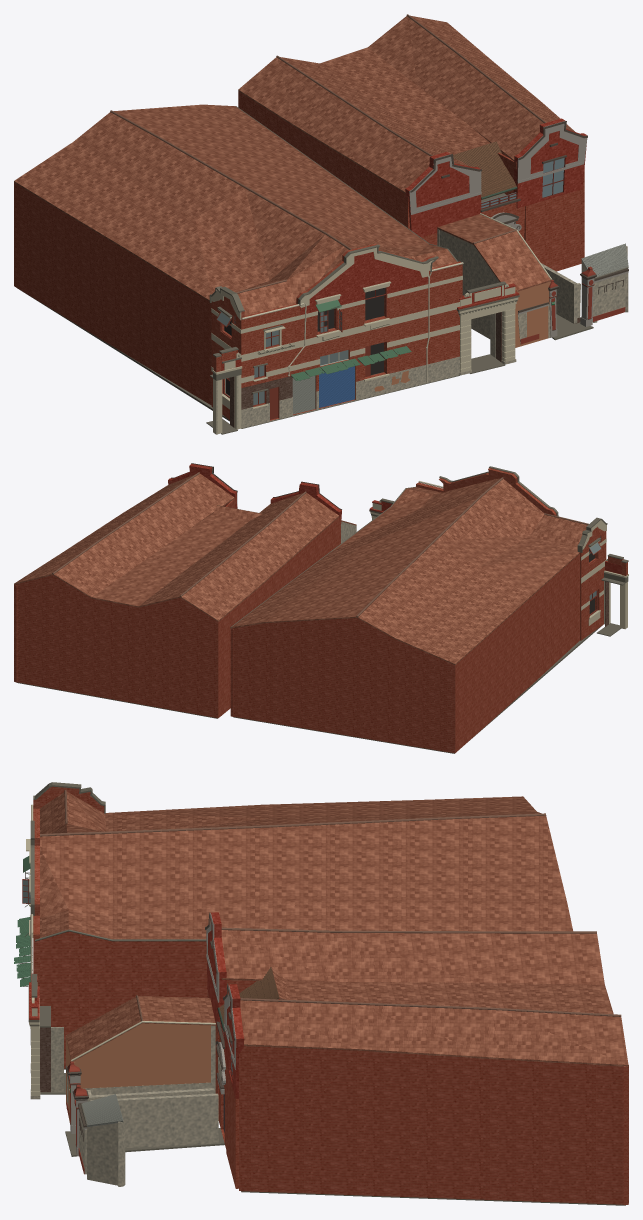
The model's file is full-source.glb.
The picture shows the model from 3 angles, top to bottom: view 1: azimuth 30°, elevation 25°; view 2: azimuth 150°, elevation 25°; view 3: azimuth 270°, elevation 25°; orthographic projection. The views are drawn at different scales.
Parts seen in each view (by area): view 1: 颐庆里住宅，景星路街面; view 2: 颐庆里住宅，景星路街面; view 3: 颐庆里住宅，景星路街面.
Boxes of the visible parts, x1,y1,x2,y2 form: 颐庆里住宅，景星路街面: (14,14,628,434); 颐庆里住宅，景星路街面: (14,463,628,753); 颐庆里住宅，景星路街面: (14,782,628,1205).
Bounding box in the file's own units: 32.16 × 9.81 × 29.62.
28 materials, 5 textured.
